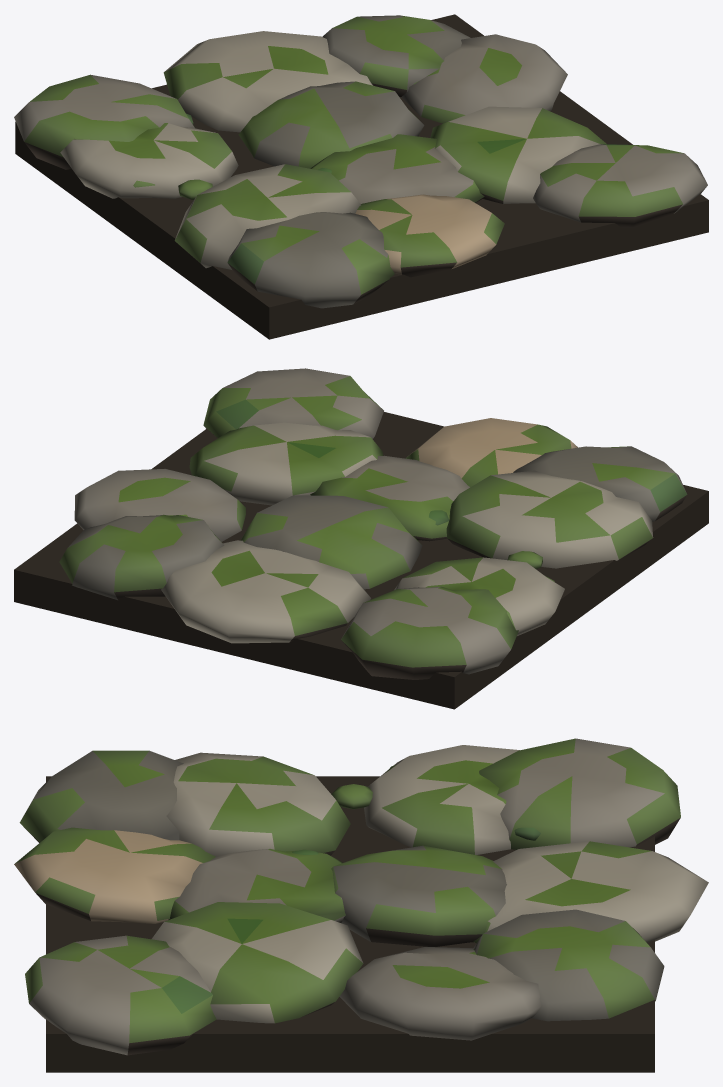
Rendered from kit_corr0.glb.
3 views of the same model, one above another, from view 1: azimuth 30°, elevation 25°; view 2: azimuth 150°, elevation 25°; view 3: azimuth 270°, elevation 25° (orthographic). The views are drawn at different scales.
Visible parts, largest first — view 1: kit_corr0; view 2: kit_corr0; view 3: kit_corr0.
Boxes of the visible parts, x1,y1,x2,y2 form: kit_corr0: (14,14,708,339); kit_corr0: (14,368,708,709); kit_corr0: (14,738,708,1072).
Size of the model in its own units: 1.11 by 0.1406 by 1.14.
